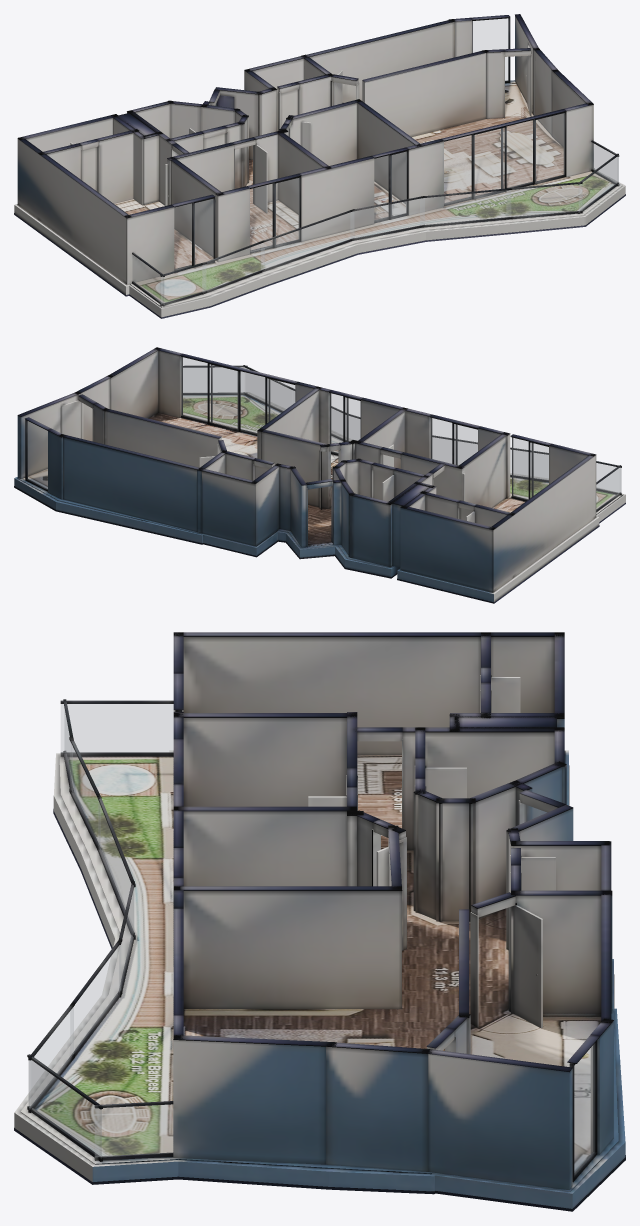
3 renders of one model, top to bottom at view 1: azimuth 30°, elevation 25°; view 2: azimuth 150°, elevation 25°; view 3: azimuth 270°, elevation 25°, orthographic. The views are drawn at different scales.
Parts seen in each view (by area): view 1: plan, glass0_m, glass2_m, railg5_m, railg3_m, glass3_m, railg2_m, railg4_m, glass1_m, railg6_m, railg7_m, glass4_m (+3 smaller); view 2: plan, glass0_m, glass3_m, glass2_m, glass1_m, railg1_m, glass4_m, railg2_m, railg6_m, railg5_m, railg8_m, railg7_m; view 3: plan, railg8_m, railg0_m, railg1_m, railg3_m, glass4_m, railg2_m, railg5_m, railg6_m.
Part boxes in pixels (x1,y1,x2,y2): plan: [14, 14, 625, 318]; glass0_m: [444, 113, 564, 203]; glass2_m: [250, 178, 299, 250]; railg5_m: [261, 212, 353, 270]; railg3_m: [420, 190, 510, 225]; glass3_m: [174, 199, 213, 269]; railg2_m: [506, 184, 582, 216]; railg4_m: [350, 198, 424, 238]; glass1_m: [374, 152, 406, 220]; railg6_m: [202, 242, 264, 291]; railg7_m: [161, 264, 205, 303]; glass4_m: [473, 18, 508, 80]; plan: [14, 347, 625, 603]; glass0_m: [181, 357, 294, 433]; glass3_m: [512, 438, 548, 499]; glass2_m: [431, 418, 477, 464]; glass1_m: [330, 393, 360, 453]; railg1_m: [183, 367, 246, 392]; glass4_m: [27, 421, 47, 489]; railg2_m: [244, 367, 288, 410]; railg6_m: [510, 450, 548, 479]; railg5_m: [433, 438, 477, 464]; railg8_m: [596, 468, 620, 509]; railg7_m: [596, 463, 621, 493]; plan: [14, 632, 625, 1211]; railg8_m: [61, 704, 173, 752]; railg0_m: [95, 1104, 172, 1156]; railg1_m: [28, 1060, 101, 1157]; railg3_m: [70, 945, 120, 1056]; glass4_m: [574, 1044, 594, 1174]; railg2_m: [29, 1007, 73, 1108]; railg5_m: [98, 801, 134, 935]; railg6_m: [70, 742, 100, 847].
Size of the model in its own units: 18.14 by 2.62 by 10.57.
Materials: 2 (1 with a texture image).
